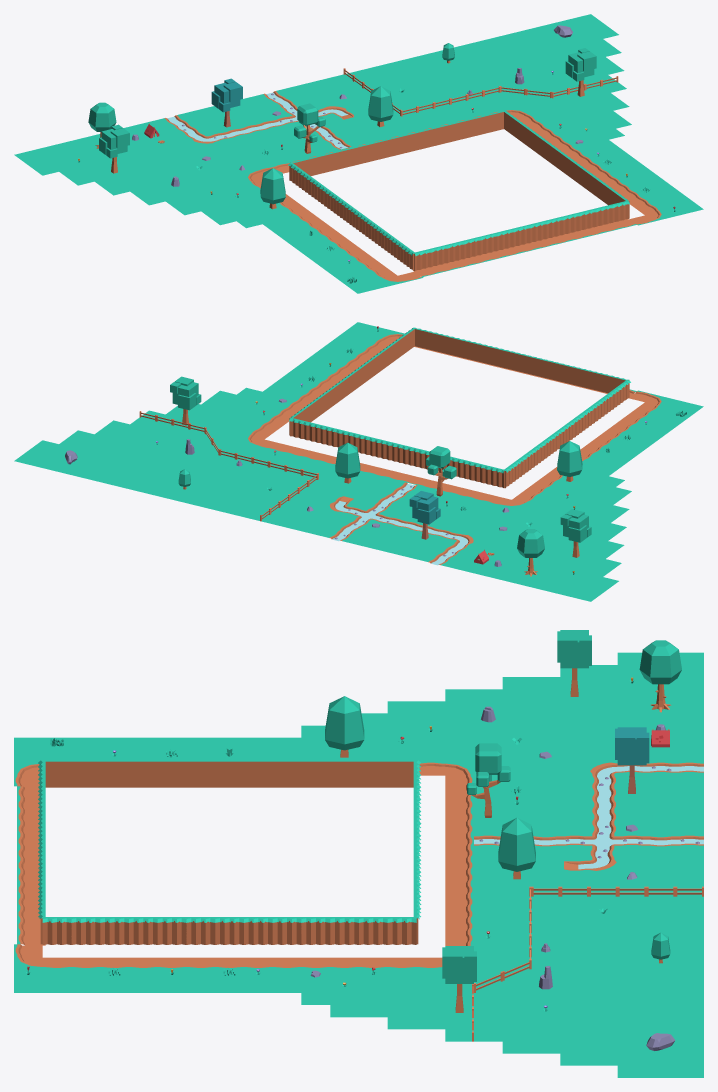
Rendered from level-background.glb.
3 renders of one model, top to bottom at view 1: azimuth 30°, elevation 25°; view 2: azimuth 150°, elevation 25°; view 3: azimuth 270°, elevation 25°, orthographic. The views are drawn at different scales.
Parts seen in each view (by area): view 1: mergedBlocks(Clone); view 2: mergedBlocks(Clone); view 3: mergedBlocks(Clone).
Part boxes in pixels (x1=…): mergedBlocks(Clone): x1=14, y1=14, x2=703, y2=293; mergedBlocks(Clone): x1=14, y1=322, x2=703, y2=601; mergedBlocks(Clone): x1=14, y1=630, x2=703, y2=1077.
Size of the model in its own units: 35 by 2.71 by 24.
